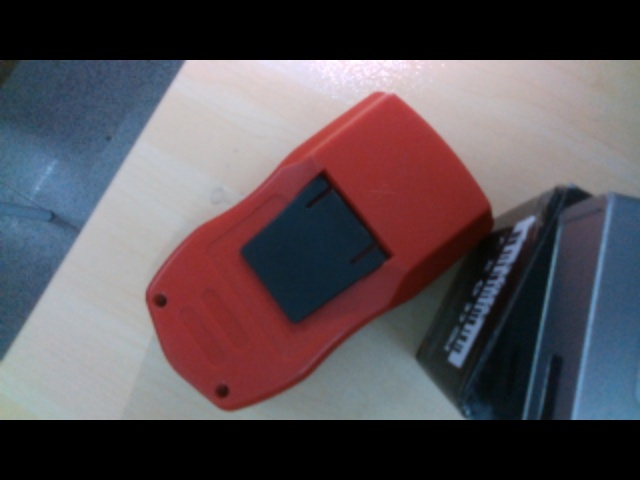Multimeter: (144, 92, 493, 415)
